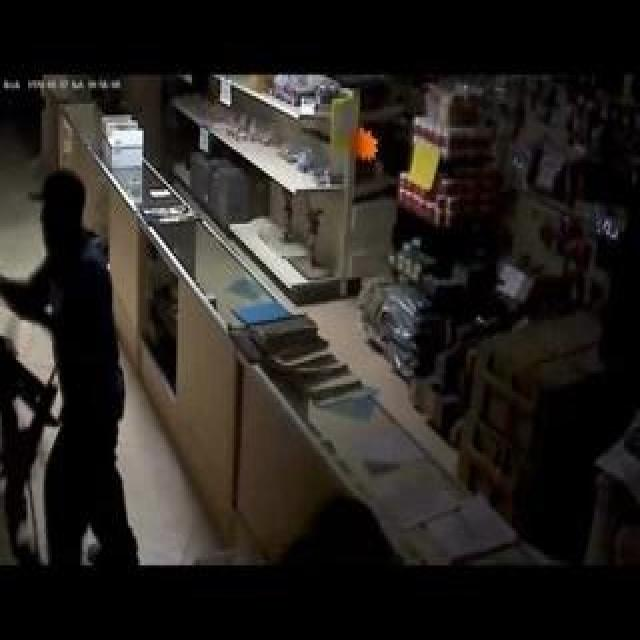thief: (27, 175, 123, 335)
